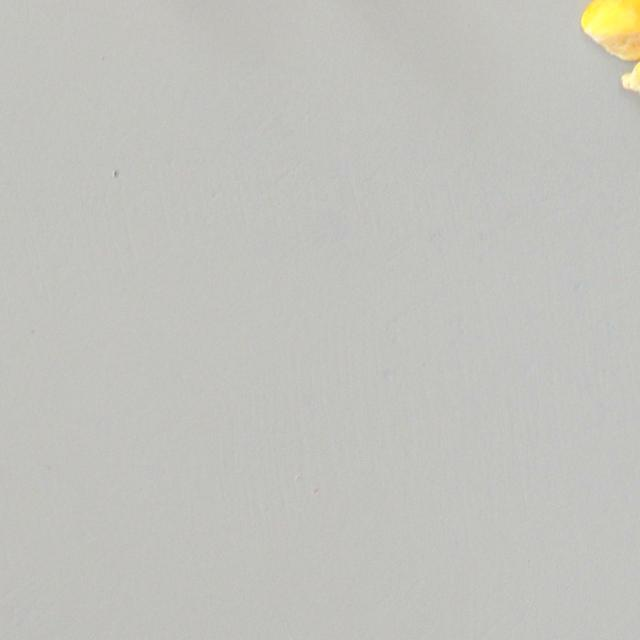entero: (620, 43, 640, 114)
pelicula: (578, 0, 640, 62)
